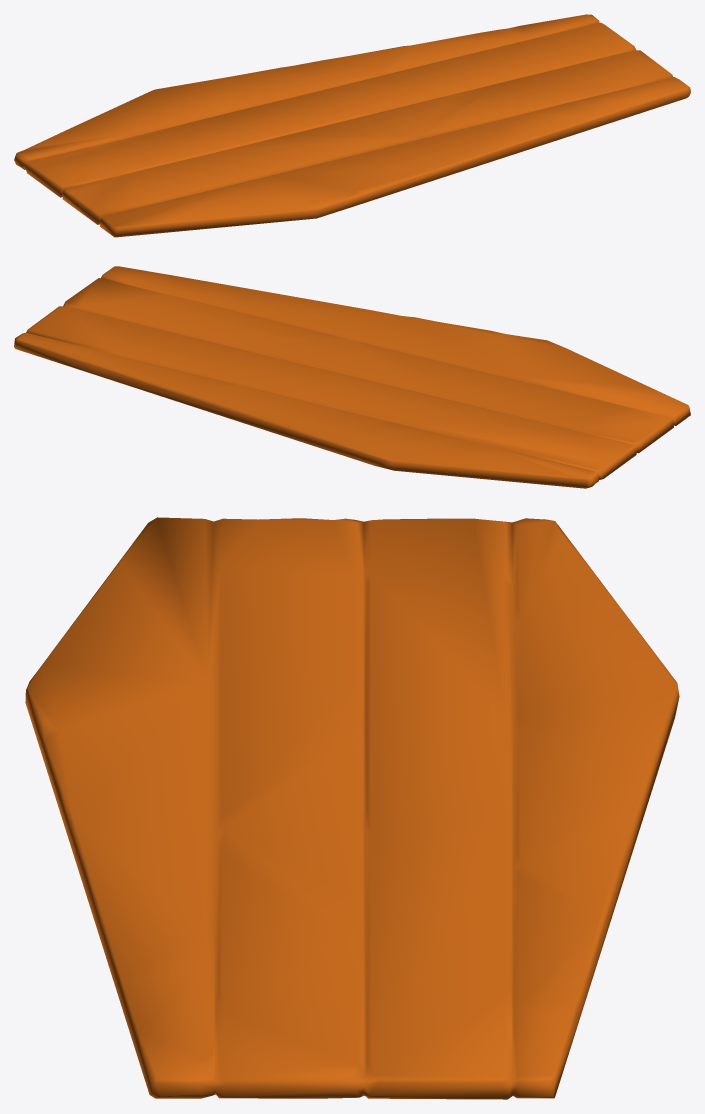
Rendered from TombstonesCoffinWood.002.fbx.
3 renders of one model, top to bottom at view 1: azimuth 30°, elevation 25°; view 2: azimuth 150°, elevation 25°; view 3: azimuth 270°, elevation 25°, orthographic. The views are drawn at different scales.
Visible parts, largest first — view 1: TombstonesCoffinWood.002; view 2: TombstonesCoffinWood.002; view 3: TombstonesCoffinWood.002.
Boxes of the visible parts, box(x1,y1,x2,y2) form: TombstonesCoffinWood.002: box(14, 14, 690, 237); TombstonesCoffinWood.002: box(14, 266, 690, 488); TombstonesCoffinWood.002: box(25, 517, 679, 1099).
Bounding box in the file's own units: 684 × 11.94 × 336.
